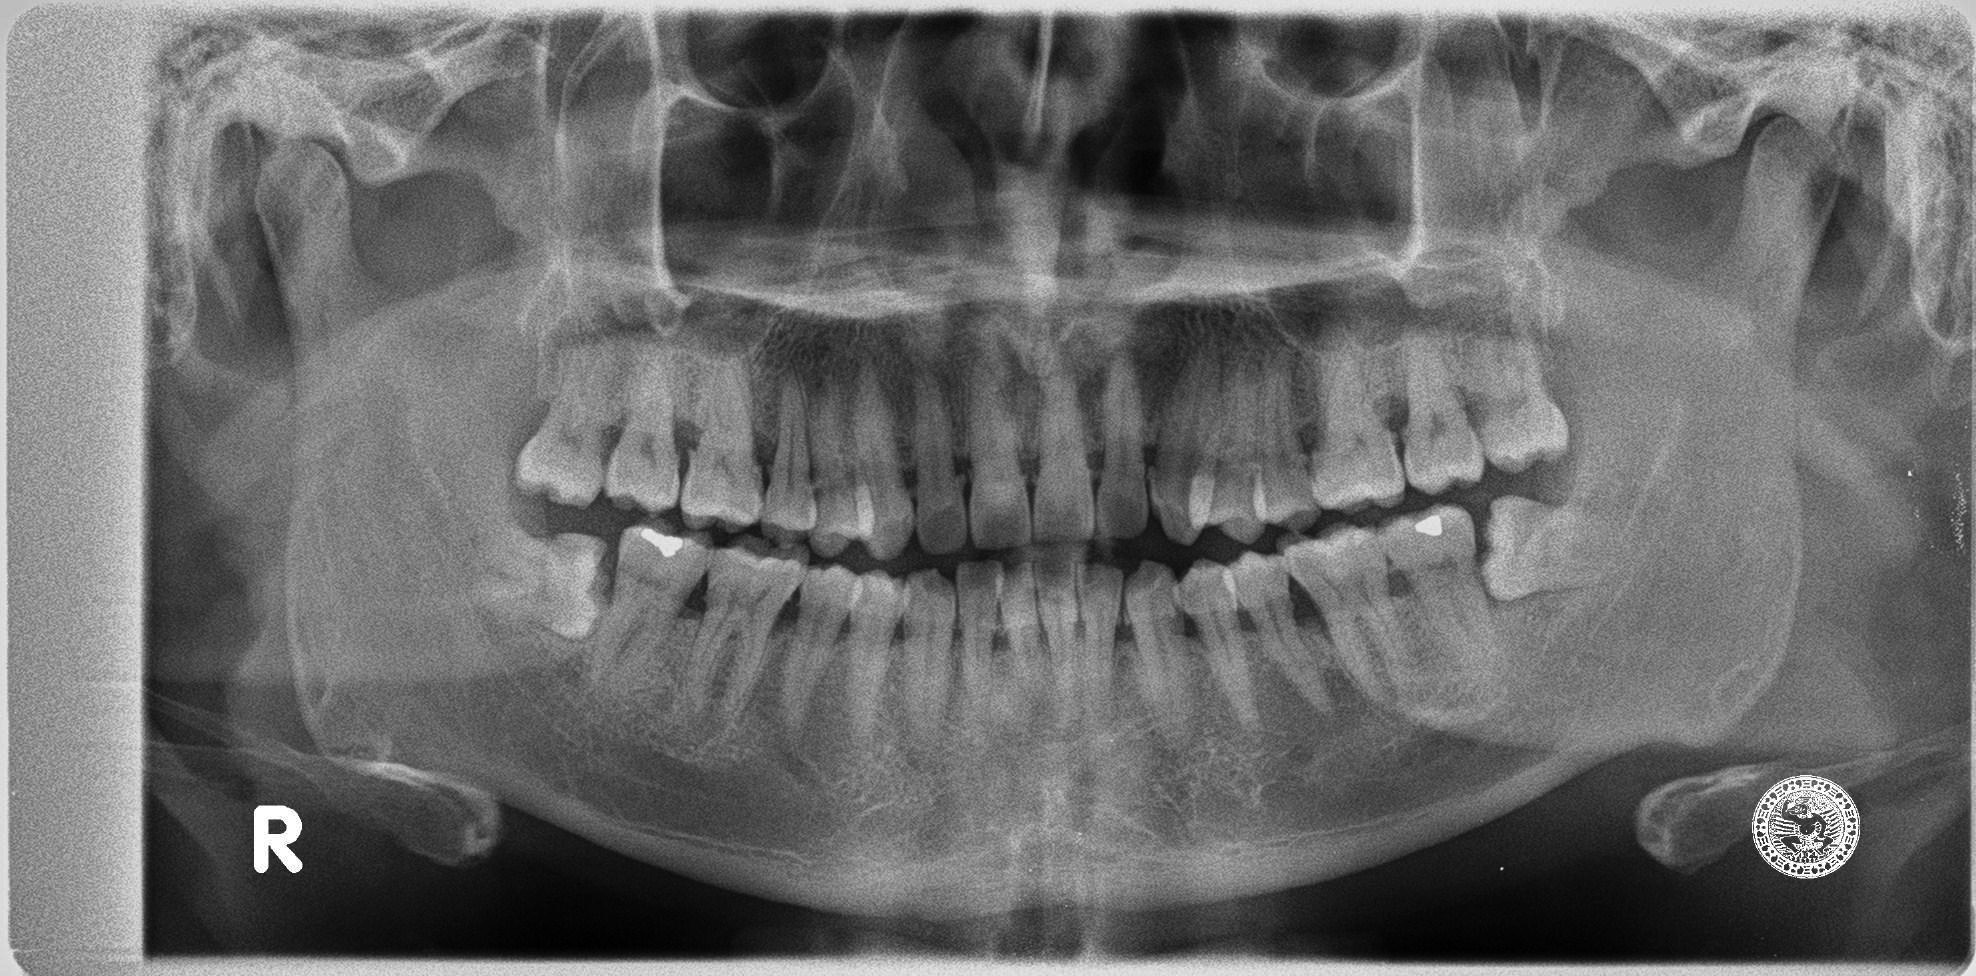Individual Tooth: (674, 532, 814, 720), (1274, 523, 1416, 697), (1365, 504, 1500, 665), (587, 520, 712, 678), (1224, 550, 1338, 715), (1308, 333, 1403, 516), (1147, 340, 1229, 545), (1169, 559, 1263, 736), (517, 346, 617, 506), (1398, 319, 1487, 497), (1471, 323, 1579, 468), (474, 532, 609, 638), (1192, 356, 1265, 543), (681, 357, 761, 527), (1485, 498, 1617, 600), (783, 565, 862, 731), (1125, 560, 1196, 743), (969, 352, 1030, 549), (1033, 340, 1093, 541), (1255, 354, 1322, 532), (605, 349, 677, 512), (852, 364, 911, 559), (844, 571, 907, 733), (759, 375, 817, 547), (914, 363, 967, 552), (1096, 352, 1148, 538), (810, 375, 861, 557), (905, 570, 955, 735), (1037, 543, 1088, 704), (956, 559, 1007, 712), (993, 542, 1042, 692), (1076, 565, 1125, 700)
